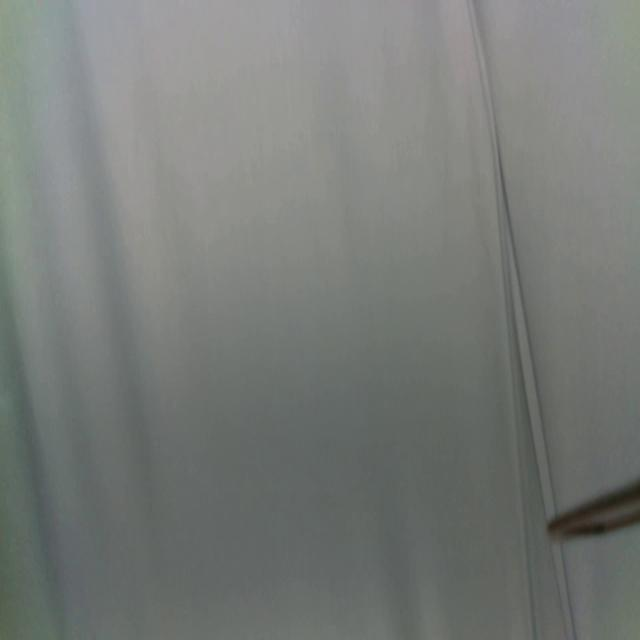crease: (469, 0, 536, 636), (501, 136, 560, 513), (553, 547, 578, 639)
